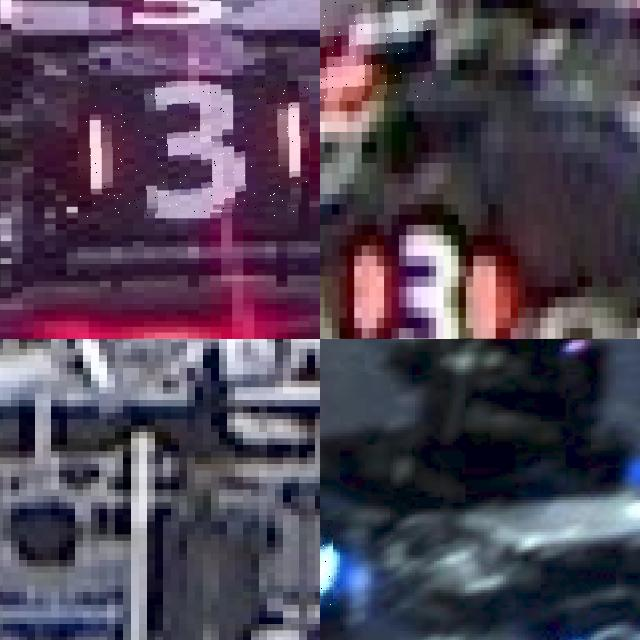R3: (78, 81, 309, 218), (339, 214, 510, 339), (320, 0, 436, 101)
